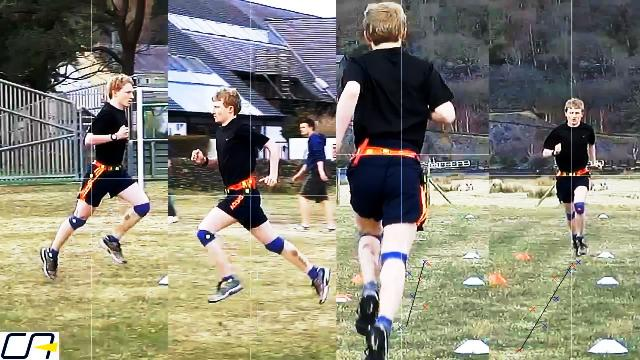berlari: (337, 0, 458, 356), (185, 81, 331, 318), (35, 69, 152, 293), (540, 93, 608, 263)
